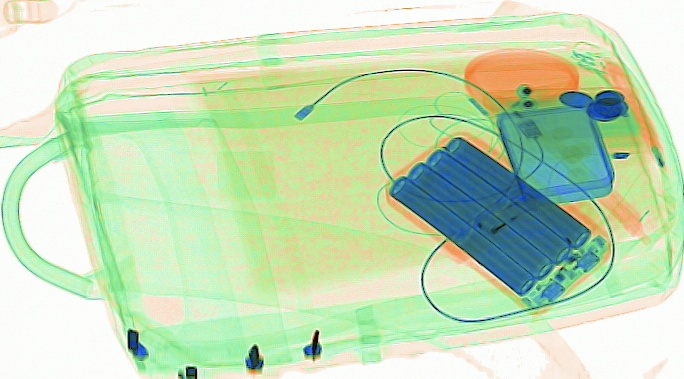lighter: (438, 185, 540, 263)
powerbank: (383, 130, 612, 317)
